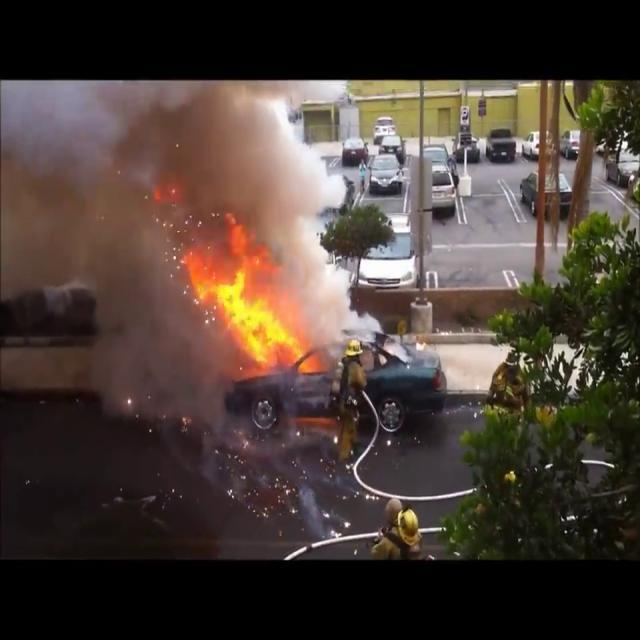Fire: (189, 232, 313, 376)
Smoke: (1, 81, 371, 379)
